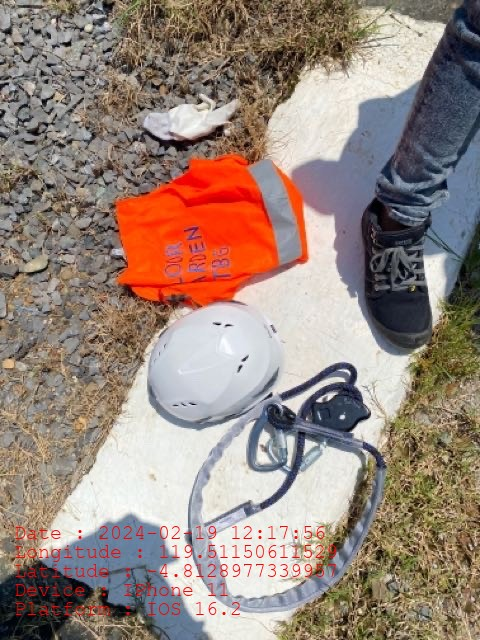HELM: (146, 301, 282, 425)
ROMPI: (114, 155, 306, 303)
